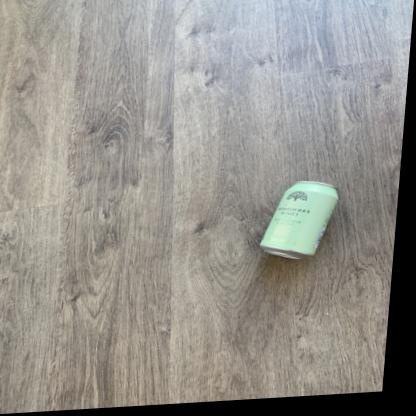trash: (260, 181, 337, 258)
